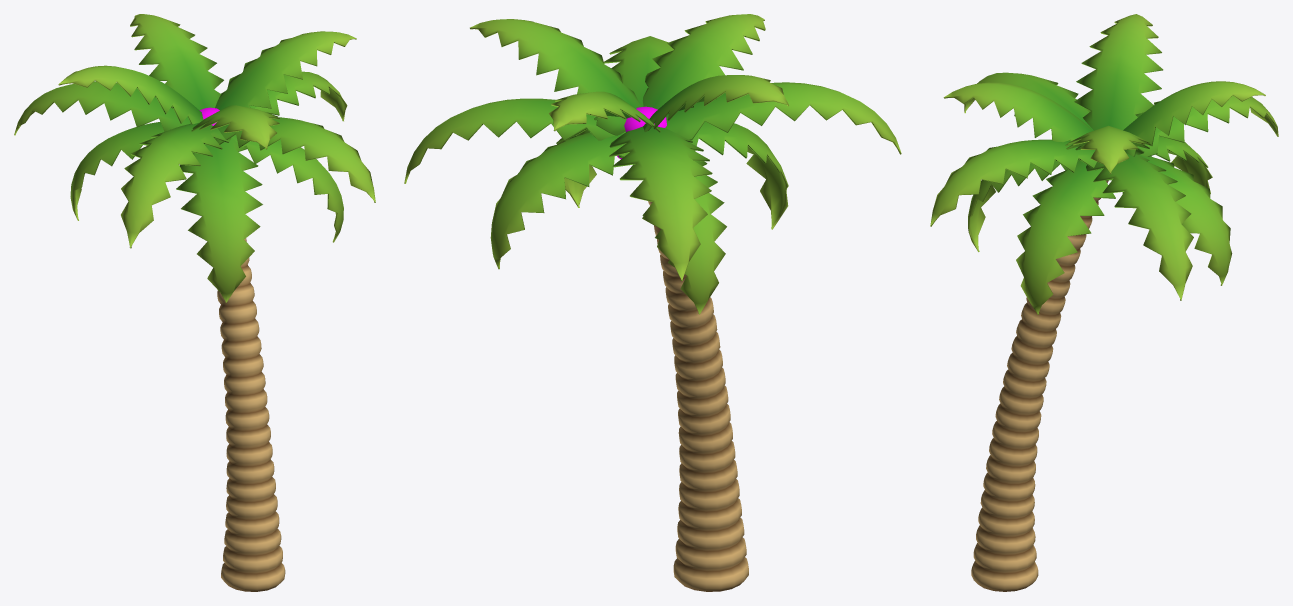
The model's file is palm_a.glb.
3 views of the same model, side by side, from view 1: azimuth 30°, elevation 25°; view 2: azimuth 150°, elevation 25°; view 3: azimuth 270°, elevation 25° (orthographic). The views are drawn at different scales.
Parts seen in each view (by area): view 1: palm_a; view 2: palm_a; view 3: palm_a.
Part boxes in pixels (x1=…): palm_a: x1=14, y1=14, x2=375, y2=591; palm_a: x1=404, y1=14, x2=901, y2=591; palm_a: x1=930, y1=14, x2=1278, y2=591.
Bounding box in the file's own units: 4.83 × 7.12 × 4.41.
